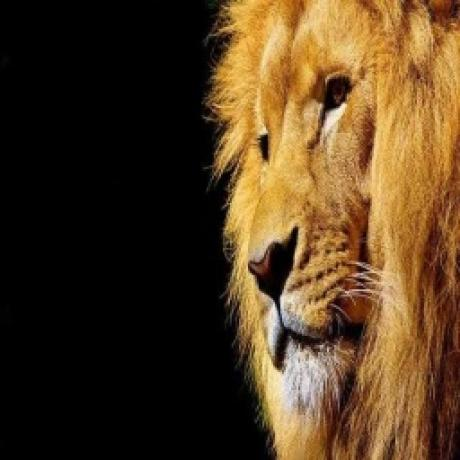Lion: (205, 0, 460, 460)
